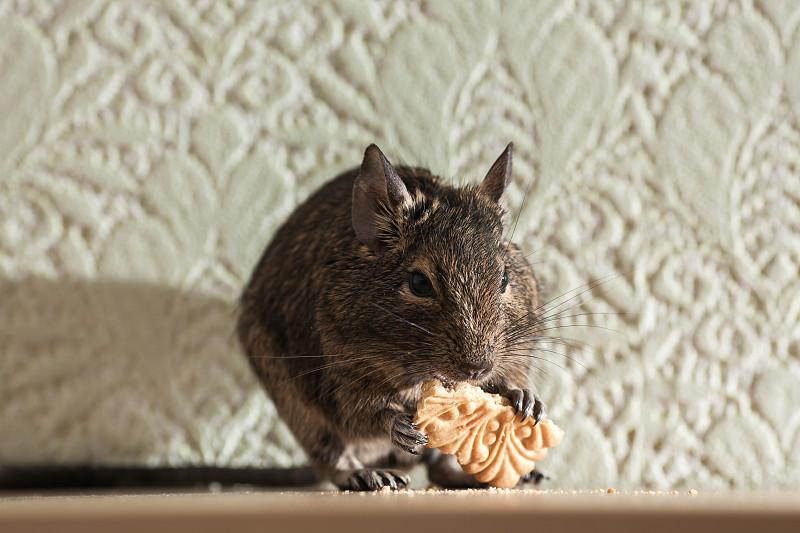rat: (215, 110, 566, 489)
